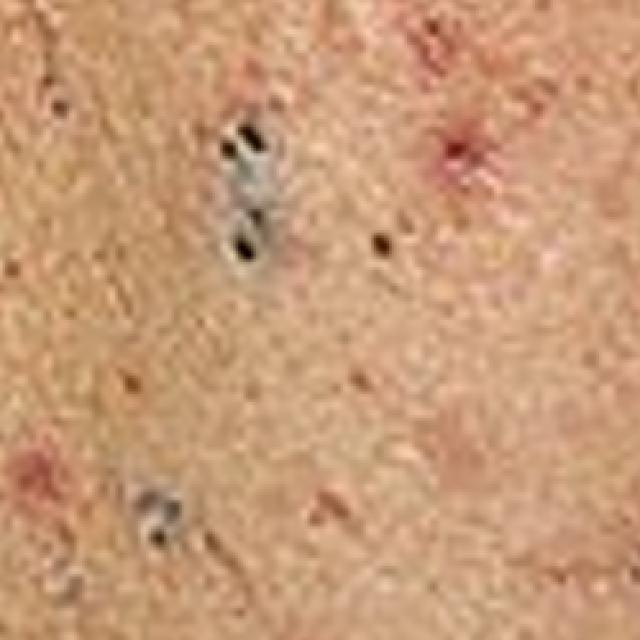blackhead: (234, 116, 279, 158), (388, 205, 430, 242), (229, 227, 260, 270), (131, 480, 163, 520), (316, 488, 353, 520), (345, 364, 377, 398), (246, 200, 274, 238), (368, 226, 396, 264), (118, 365, 146, 402), (196, 526, 228, 558), (541, 559, 571, 593), (443, 208, 476, 238), (1, 252, 25, 288), (146, 522, 173, 554), (570, 73, 600, 98), (578, 343, 602, 372), (163, 495, 186, 525), (526, 0, 566, 17), (213, 138, 239, 164), (37, 66, 60, 95), (186, 119, 214, 141), (304, 504, 324, 532), (266, 89, 285, 115), (624, 558, 640, 587), (50, 97, 69, 120)
